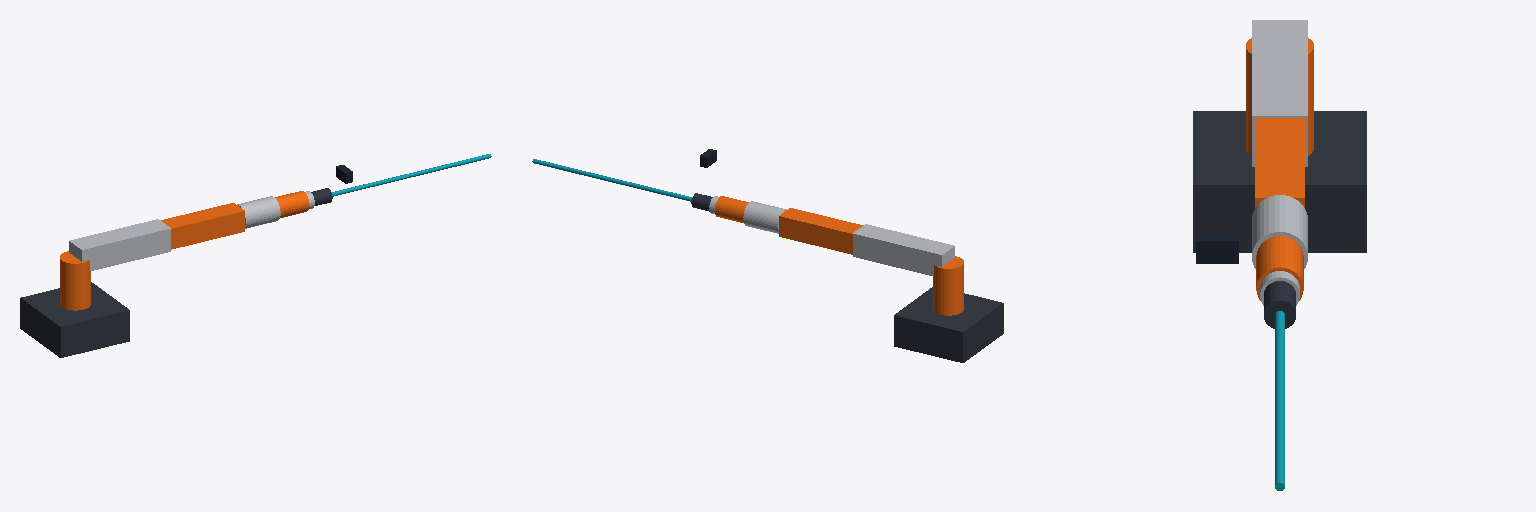
URDF robot description (switch_press_arm):
<?xml version='1.0' encoding='utf-8'?>
<robot name="switch_press_arm">
  <material name="graphite">
    <color rgba="0.23 0.25 0.29 1.0" />
  </material>
  <material name="silver">
    <color rgba="0.75 0.76 0.78 1.0" />
  </material>
  <material name="signal_orange">
    <color rgba="0.95 0.45 0.12 1.0" />
  </material>
  <material name="tool_blue">
    <color rgba="0.17 0.45 0.78 1.0" />
  </material>
  <material name="gripper_metal">
    <color rgba="0.16 0.18 0.22 1.0" />
  </material>
  <material name="gripper_pad">
    <color rgba="0.08 0.08 0.09 1.0" />
  </material>

  <link name="base_link">
    <visual>
      <origin xyz="0 0 0.06" rpy="0 0 0" />
      <geometry>
        <box size="0.28 0.28 0.12" />
      </geometry>
      <material name="graphite" />
    </visual>
    <collision>
      <origin xyz="0 0 0.06" rpy="0 0 0" />
      <geometry>
        <box size="0.28 0.28 0.12" />
      </geometry>
    </collision>
    <inertial>
      <origin xyz="0 0 0.06" rpy="0 0 0" />
      <mass value="8.0" />
      <inertia ixx="0.08" ixy="0.0" ixz="0.0" iyy="0.08" iyz="0.0" izz="0.08" />
    </inertial>
  </link>

  <link name="link_1">
    <visual>
      <origin xyz="0 0 0.09" rpy="0 0 0" />
      <geometry>
        <cylinder radius="0.055" length="0.18" />
      </geometry>
      <material name="signal_orange" />
    </visual>
    <collision>
      <origin xyz="0 0 0.09" rpy="0 0 0" />
      <geometry>
        <cylinder radius="0.055" length="0.18" />
      </geometry>
    </collision>
    <inertial>
      <origin xyz="0 0 0.09" rpy="0 0 0" />
      <mass value="3.0" />
      <inertia ixx="0.02" ixy="0.0" ixz="0.0" iyy="0.02" iyz="0.0" izz="0.01" />
    </inertial>
  </link>

  <joint name="joint_1" type="revolute">
    <parent link="base_link" />
    <child link="link_1" />
    <origin xyz="0 0 0.12" rpy="0 0 0" />
    <axis xyz="0 0 1" />
    <limit lower="-3.1416" upper="3.1416" effort="80.0" velocity="1.5" />
  </joint>

  <link name="link_2">
    <visual>
      <origin xyz="0.18 0 0" rpy="0 0 0" />
      <geometry>
        <box size="0.36 0.09 0.09" />
      </geometry>
      <material name="silver" />
    </visual>
    <collision>
      <origin xyz="0.18 0 0" rpy="0 0 0" />
      <geometry>
        <box size="0.36 0.09 0.09" />
      </geometry>
    </collision>
    <inertial>
      <origin xyz="0.18 0 0" rpy="0 0 0" />
      <mass value="4.0" />
      <inertia ixx="0.02" ixy="0.0" ixz="0.0" iyy="0.12" iyz="0.0" izz="0.12" />
    </inertial>
  </link>

  <joint name="joint_2" type="revolute">
    <parent link="link_1" />
    <child link="link_2" />
    <origin xyz="0 0 0.18" rpy="0 0 0" />
    <axis xyz="0 1 0" />
    <limit lower="-2.3562" upper="2.3562" effort="80.0" velocity="1.5" />
  </joint>

  <link name="link_3">
    <visual>
      <origin xyz="0.15 0 0" rpy="0 0 0" />
      <geometry>
        <box size="0.30 0.08 0.08" />
      </geometry>
      <material name="signal_orange" />
    </visual>
    <collision>
      <origin xyz="0.15 0 0" rpy="0 0 0" />
      <geometry>
        <box size="0.30 0.08 0.08" />
      </geometry>
    </collision>
    <inertial>
      <origin xyz="0.15 0 0" rpy="0 0 0" />
      <mass value="3.0" />
      <inertia ixx="0.015" ixy="0.0" ixz="0.0" iyy="0.08" iyz="0.0" izz="0.08" />
    </inertial>
  </link>

  <joint name="joint_3" type="revolute">
    <parent link="link_2" />
    <child link="link_3" />
    <origin xyz="0.36 0 0" rpy="0 0 0" />
    <axis xyz="0 1 0" />
    <limit lower="-2.7925" upper="2.7925" effort="60.0" velocity="1.8" />
  </joint>

  <link name="link_4">
    <visual>
      <origin xyz="0.07 0 0" rpy="0 1.5708 0" />
      <geometry>
        <cylinder radius="0.045" length="0.14" />
      </geometry>
      <material name="silver" />
    </visual>
    <collision>
      <origin xyz="0.07 0 0" rpy="0 1.5708 0" />
      <geometry>
        <cylinder radius="0.045" length="0.14" />
      </geometry>
    </collision>
    <inertial>
      <origin xyz="0.07 0 0" rpy="0 1.5708 0" />
      <mass value="1.5" />
      <inertia ixx="0.003" ixy="0.0" ixz="0.0" iyy="0.01" iyz="0.0" izz="0.01" />
    </inertial>
  </link>

  <joint name="joint_4" type="revolute">
    <parent link="link_3" />
    <child link="link_4" />
    <origin xyz="0.30 0 0" rpy="0 0 0" />
    <axis xyz="1 0 0" />
    <limit lower="-3.1416" upper="3.1416" effort="40.0" velocity="2.0" />
  </joint>

  <link name="link_5">
    <visual>
      <origin xyz="0.06 0 0" rpy="0 1.5708 0" />
      <geometry>
        <cylinder radius="0.038" length="0.12" />
      </geometry>
      <material name="signal_orange" />
    </visual>
    <collision>
      <origin xyz="0.06 0 0" rpy="0 1.5708 0" />
      <geometry>
        <cylinder radius="0.038" length="0.12" />
      </geometry>
    </collision>
    <inertial>
      <origin xyz="0.06 0 0" rpy="0 1.5708 0" />
      <mass value="1.0" />
      <inertia ixx="0.002" ixy="0.0" ixz="0.0" iyy="0.006" iyz="0.0" izz="0.006" />
    </inertial>
  </link>

  <joint name="joint_5" type="revolute">
    <parent link="link_4" />
    <child link="link_5" />
    <origin xyz="0.14 0 0" rpy="0 0 0" />
    <axis xyz="0 1 0" />
    <limit lower="-2.3562" upper="2.3562" effort="30.0" velocity="2.0" />
  </joint>

  <link name="link_6">
    
    <visual>
      <origin xyz="0.0125 0 0" rpy="0 1.5708 0" />
      <geometry>
        <cylinder radius="0.032" length="0.025" />
      </geometry>
      <material name="silver" />
    </visual>
    <collision>
      <origin xyz="0.0125 0 0" rpy="0 1.5708 0" />
      <geometry>
        <cylinder radius="0.032" length="0.025" />
      </geometry>
    </collision>
    <inertial>
      <origin xyz="0.05 0 0" rpy="0 1.5708 0" />
      <mass value="0.8" />
      <inertia ixx="0.0015" ixy="0.0" ixz="0.0" iyy="0.004" iyz="0.0" izz="0.004" />
    </inertial>
  </link>

  <joint name="joint_6" type="revolute">
    <parent link="link_5" />
    <child link="link_6" />
    <origin xyz="0.12 0 0" rpy="0 0 0" />
    <axis xyz="1 0 0" />
    <limit lower="-3.1416" upper="3.1416" effort="20.0" velocity="2.5" />
  </joint>

  <link name="tool0">
    
    <visual><origin xyz="-0.0375 0 0" rpy="0 1.5707963267948966 0" /><geometry><cylinder radius="0.026" length="0.075" /></geometry><material name="tool0"><color rgba="0.22 0.25 0.30 1" /></material></visual><collision><origin xyz="-0.0375 0 0" rpy="0 1.5707963267948966 0" /><geometry><cylinder radius="0.026" length="0.075" /></geometry></collision><inertial><origin xyz="-0.0375 0 0" rpy="0 0 0" /><mass value="0.3" /><inertia ixx="0.00010139999999999998" iyy="0.000191325" izz="0.000191325" ixy="0" ixz="0" iyz="0" /></inertial></link>

  <joint name="tool0_joint" type="fixed">
    <parent link="link_6" />
    <child link="tool0" />
    <origin xyz="0.10 0 0" rpy="0 0 0" />
  </joint>
<link name="press_rod"><visual><origin xyz="0.325 0 0" rpy="0 1.5707963267948966 0" /><geometry><cylinder radius="0.008" length="0.65" /></geometry><material name="press_rod"><color rgba="0.12 0.65 0.72 0.35" /></material></visual><collision><origin xyz="0.325 0 0" rpy="0 1.5707963267948966 0" /><geometry><cylinder radius="0.008" length="0.65" /></geometry></collision><inertial><origin xyz="0.325 0 0" rpy="0 0 0" /><mass value="0.55" /><inertia ixx="1.76e-05" iyy="0.019373383333333338" izz="0.019373383333333338" ixy="0" ixz="0" iyz="0" /></inertial></link><joint name="press_rod_joint" type="fixed"><parent link="tool0" /><child link="press_rod" /><origin xyz="0 0 0" rpy="0 0 0" /></joint><link name="rod_tip" /><joint name="rod_tip_joint" type="fixed"><parent link="press_rod" /><child link="rod_tip" /><origin xyz="0.65 0 0" rpy="0 0 0" /></joint><link name="camera_optical_frame"><visual><origin xyz="0 0 -0.015" /><geometry><box size="0.07 0.04 0.03" /></geometry><material name="camera"><color rgba="0.15 0.18 0.24 1" /></material></visual><collision><origin xyz="0 0 -0.015" /><geometry><box size="0.07 0.04 0.03" /></geometry></collision><inertial><origin xyz="0 0 -0.015" /><mass value="0.12" /><inertia ixx="2.4999999999999994e-05" iyy="5.8e-05" izz="6.5e-05" ixy="0" ixz="0" iyz="0" /></inertial></link><joint name="camera_joint" type="fixed"><parent link="tool0" /><child link="camera_optical_frame" /><origin xyz="0.02 -0.1 0.12" rpy="-1.5707963267948966 0.0 -1.5707963267948966" /></joint></robot>

--- What the picture shows (computed from the rendered views, not written in the file) ---
The picture shows the robot from 3 angles, left to right: view 1: azimuth 30°, elevation 25°; view 2: azimuth 150°, elevation 25°; view 3: azimuth 270°, elevation 25°; orthographic projection.
Robot: switch_press_arm — 11 links, 10 joints (6 revolute, 4 fixed); root link base_link; default pose: all joints at 0.
Visible links, largest first — view 1: base_link, link_2, link_3, link_1, link_4, press_rod, link_5; view 2: base_link, link_2, link_3, link_1, link_4, press_rod, link_5; view 3: base_link, link_2, link_3, link_4, link_5, press_rod, link_1, camera_optical_frame, tool0.
Boxes of the visible links, bbox=[...] form: base_link: bbox=[20, 282, 129, 357]; link_2: bbox=[69, 219, 170, 270]; link_3: bbox=[161, 203, 244, 249]; link_1: bbox=[60, 251, 90, 310]; link_4: bbox=[237, 196, 280, 228]; press_rod: bbox=[331, 154, 491, 196]; link_5: bbox=[275, 191, 308, 217]; base_link: bbox=[894, 287, 1003, 362]; link_2: bbox=[853, 224, 954, 276]; link_3: bbox=[779, 208, 863, 254]; link_1: bbox=[933, 256, 963, 315]; link_4: bbox=[743, 201, 786, 233]; press_rod: bbox=[532, 159, 692, 201]; link_5: bbox=[715, 196, 748, 222]; base_link: bbox=[1193, 111, 1366, 252]; link_2: bbox=[1252, 20, 1307, 166]; link_3: bbox=[1255, 118, 1304, 207]; link_4: bbox=[1252, 195, 1307, 268]; link_5: bbox=[1256, 236, 1303, 300]; press_rod: bbox=[1275, 311, 1284, 490]; link_1: bbox=[1246, 38, 1313, 155]; camera_optical_frame: bbox=[1196, 233, 1238, 263]; tool0: bbox=[1264, 281, 1295, 328].
Bounding box of the posed robot: 1.81 × 0.28 × 0.44 m (x, y, z).
Geometry: primitives only (box / cylinder / sphere), no mesh files.
